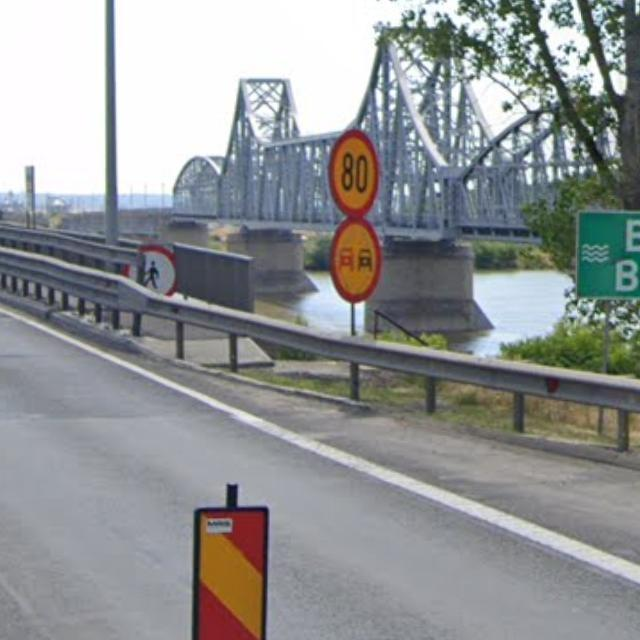forb_overtake: (329, 218, 381, 305)
forb_speed_over_80: (327, 130, 379, 220)
